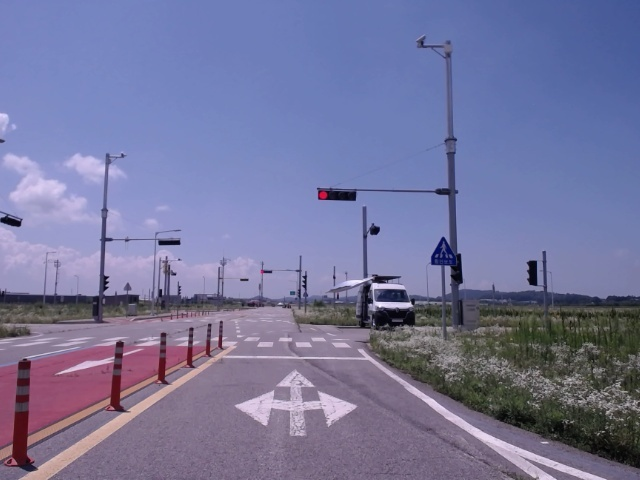red_4: (316, 189, 358, 201)
